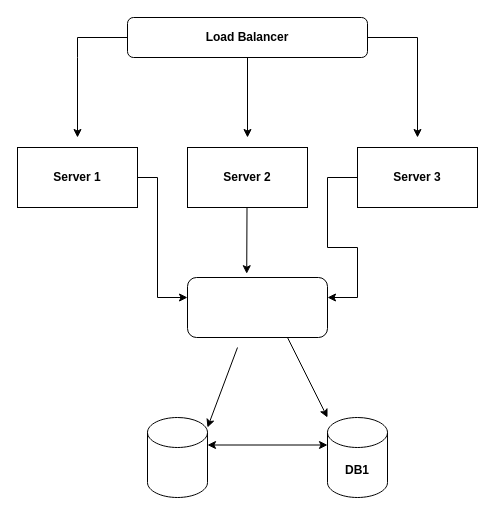
This 495x515 diagram has some shape labels left out. The shapes that lost their labels are listed below. From the top down, each one's centre as x and y in pixels, then its label:
At pixel 257 307: "Load balancer for DB".
At pixel 177 457: "DB".
